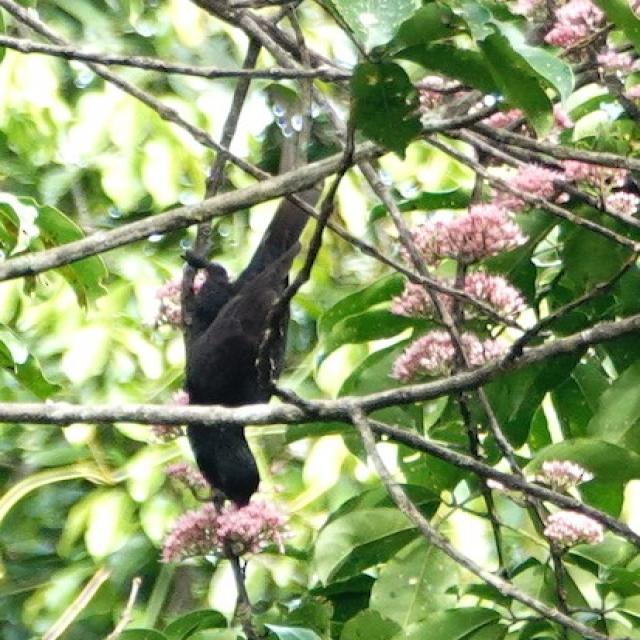Nuri Hitam: (141, 165, 324, 532)
